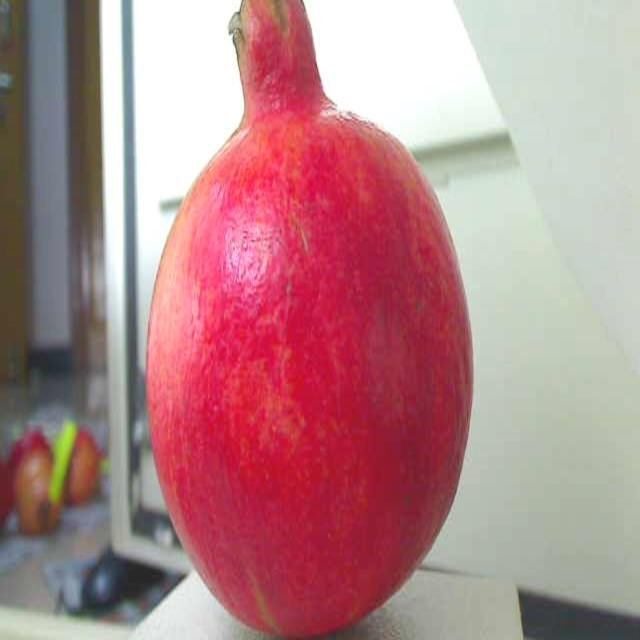pomegranate: (139, 0, 484, 640)
